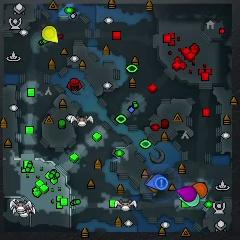Other: (155, 177, 169, 190)
p1: (147, 174, 165, 188)
p2: (179, 194, 200, 206)
p3: (176, 185, 196, 201)
p4: (41, 25, 58, 43)
p5: (193, 181, 208, 198)
